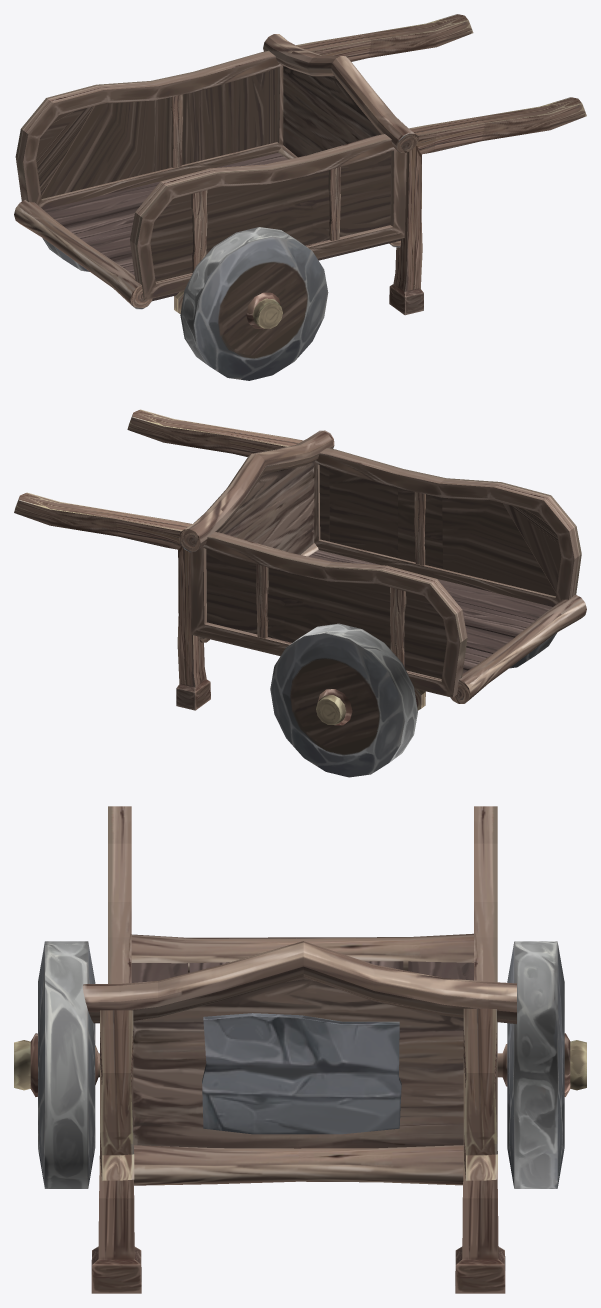
Rendered from TUICHE2.fbx.
3 views of the same model, one above another, from view 1: azimuth 30°, elevation 25°; view 2: azimuth 150°, elevation 25°; view 3: azimuth 270°, elevation 25° (orthographic). The views are drawn at different scales.
Visible parts, largest first — view 1: TUICHE002; view 2: TUICHE002; view 3: TUICHE002.
Part boxes in pixels (bbox=[...]): TUICHE002: bbox=[14, 14, 586, 380]; TUICHE002: bbox=[14, 409, 586, 777]; TUICHE002: bbox=[14, 806, 586, 1293].
Bounding box in the file's own units: 112 × 52.54 × 76.02.
Materials: 1 (1 with a texture image).
